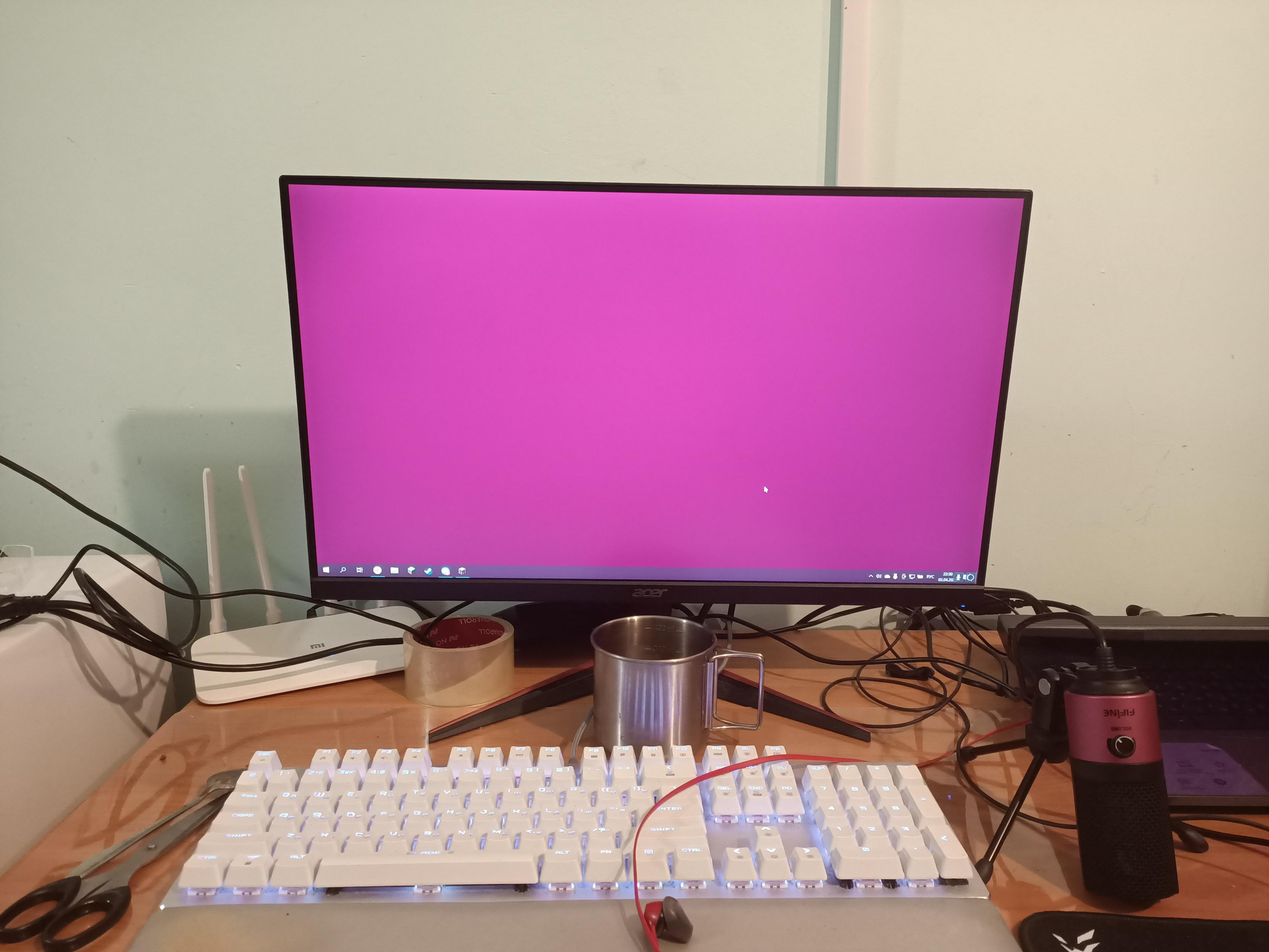monitor: (279, 170, 1037, 611)
